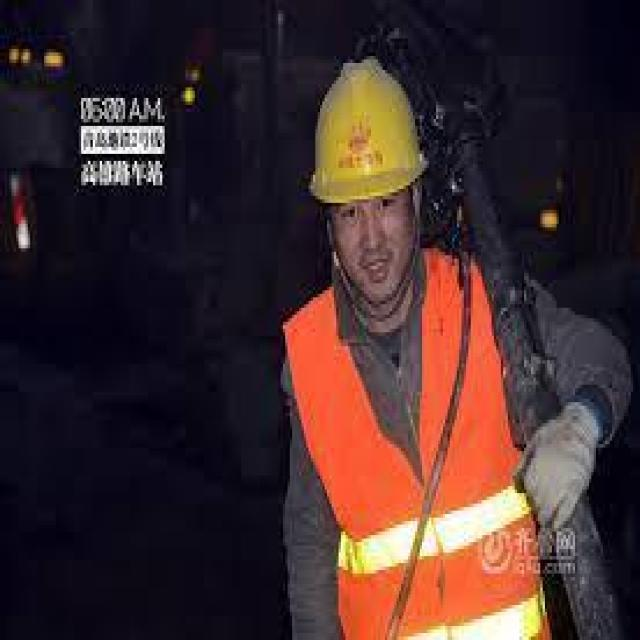helmet: (308, 56, 429, 206)
